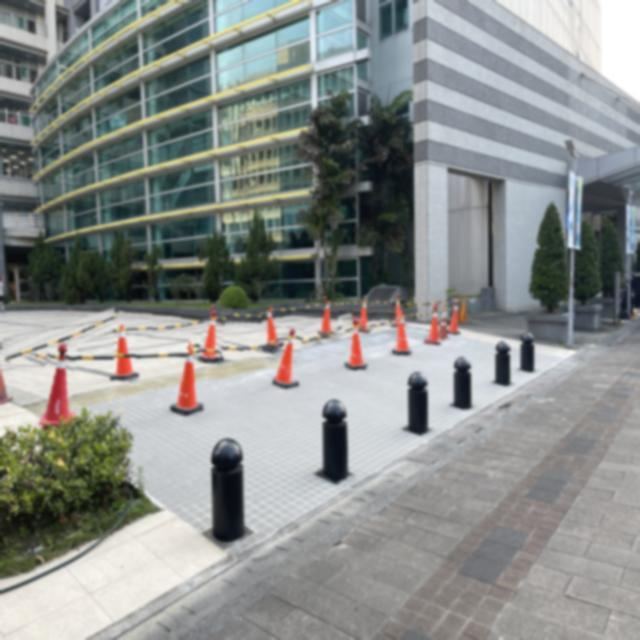traffic cone: (39, 366, 75, 429), (170, 359, 204, 417), (109, 324, 139, 382), (198, 308, 224, 363), (272, 341, 300, 390), (391, 301, 412, 356), (344, 331, 369, 371), (261, 309, 283, 353), (0, 344, 13, 407), (423, 308, 443, 346), (318, 302, 335, 338), (0, 363, 13, 407), (446, 303, 462, 336), (357, 300, 370, 334), (54, 342, 69, 363)
